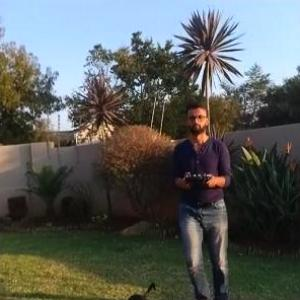follow: (167, 103, 237, 299)
